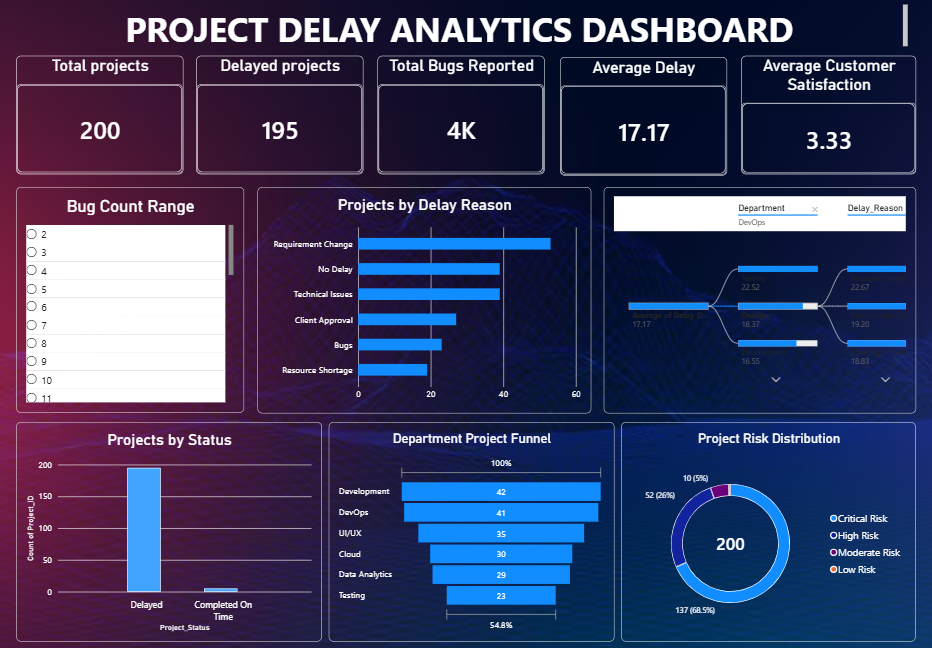

The dashboard page shown, as its layout file describes it:
{"tool":"powerbi","page":{"name":"Page 1","canvas":[1920,1080],"ordinal":0},"visuals":[{"type":"cardVisual","title":"Total projects","fields":{"Data":["CountNonNull(IT_Project_Delay csv.Project_ID)"]},"box":[26.7,96.7,275,195],"z":0},{"type":"cardVisual","title":"Delayed projects","fields":{"Data":["IT_Project_Delay csv.Delayed Projects"]},"box":[323.3,96.7,275,195],"z":1000},{"type":"cardVisual","title":"Total Bugs Reported","fields":{"Data":["IT_Project_Delay csv.Total Bugs"]},"box":[621.7,96.7,275,195],"z":2000},{"type":"cardVisual","title":"Average Customer Satisfaction","fields":{"Data":["IT_Project_Delay csv.Average Satisfaction"]},"box":[1220.6,96.7,288.2,195.5],"z":3000},{"type":"cardVisual","title":"Average Delay","fields":{"Data":["IT_Project_Delay csv.Average Delay"]},"box":[922.1,98.8,275,195],"z":4000},{"type":"clusteredColumnChart","title":"Projects by Status","fields":{"Category":["IT_Project_Delay csv.Project_Status"],"Y":["CountNonNull(IT_Project_Delay csv.Project_ID)"]},"box":[26.7,700,503.3,361.7],"z":5000},{"type":"clusteredBarChart","title":"Projects by Delay Reason","fields":{"Category":["IT_Project_Delay csv.Delay_Reason"],"Y":["CountNonNull(IT_Project_Delay csv.Project_ID)"]},"box":[424,312.9,549.6,372.6],"z":6000},{"type":"donutChart","title":"Project Risk Distribution","fields":{"Category":["IT_Project_Delay csv.Risk Level"],"Y":["CountNonNull(IT_Project_Delay csv.Project_ID)"]},"box":[1023.3,700,485,361.7],"z":7000},{"type":"listSlicer","title":"Bug Count Range","fields":{"Values":["IT_Project_Delay csv.Bugs_Count"]},"box":[26.7,313.3,375,371.7],"z":8000},{"type":"funnel","title":"Department Project Funnel","fields":{"Category":["IT_Project_Delay csv.Department"],"Y":["CountNonNull(IT_Project_Delay csv.Project_ID)"]},"box":[541.7,700,470,361.7],"z":9000},{"type":"decompositionTreeVisual","fields":{"Analyze":["Avg(IT_Project_Delay csv.Delay_Days)"],"ExplainBy":["IT_Project_Delay csv.Department","IT_Project_Delay csv.Delay_Reason","IT_Project_Delay csv.Project_Status"]},"box":[994.2,312.9,514.6,372.6],"z":10000},{"type":"textbox","box":[26.7,11.7,1468.3,71.7],"z":11000}]}

Visuals, with their boxes on the page's 1920x1080 design canvas (x1, y1, x2, y2). These are canvas units, not pixel positions in the 932x648 screenshot, which may show the page scaled, cropped or inside an application window:
"Total projects" cardVisual: box=[27, 97, 302, 292]
"Delayed projects" cardVisual: box=[323, 97, 598, 292]
"Total Bugs Reported" cardVisual: box=[622, 97, 897, 292]
"Average Customer Satisfaction" cardVisual: box=[1221, 97, 1509, 292]
"Average Delay" cardVisual: box=[922, 99, 1197, 294]
"Projects by Status" clusteredColumnChart: box=[27, 700, 530, 1062]
"Projects by Delay Reason" clusteredBarChart: box=[424, 313, 974, 686]
"Project Risk Distribution" donutChart: box=[1023, 700, 1508, 1062]
"Bug Count Range" listSlicer: box=[27, 313, 402, 685]
"Department Project Funnel" funnel: box=[542, 700, 1012, 1062]
decompositionTreeVisual - Avg(IT_Project_Delay csv.Delay_Days) x IT_Project_Delay csv.Department: box=[994, 313, 1509, 686]
textbox: box=[27, 12, 1495, 83]
